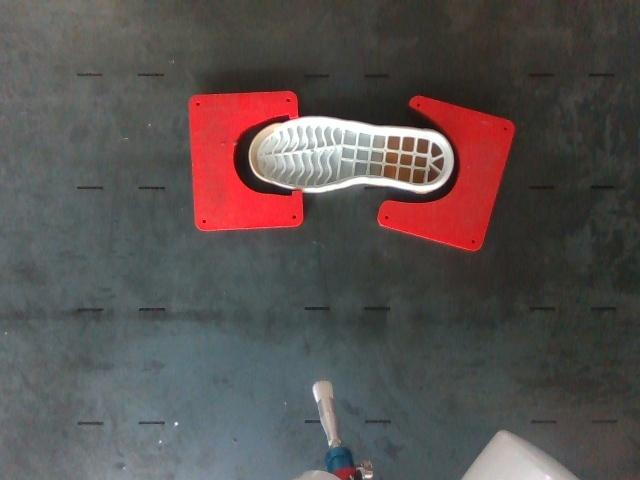shoes: (251, 118, 451, 188)
